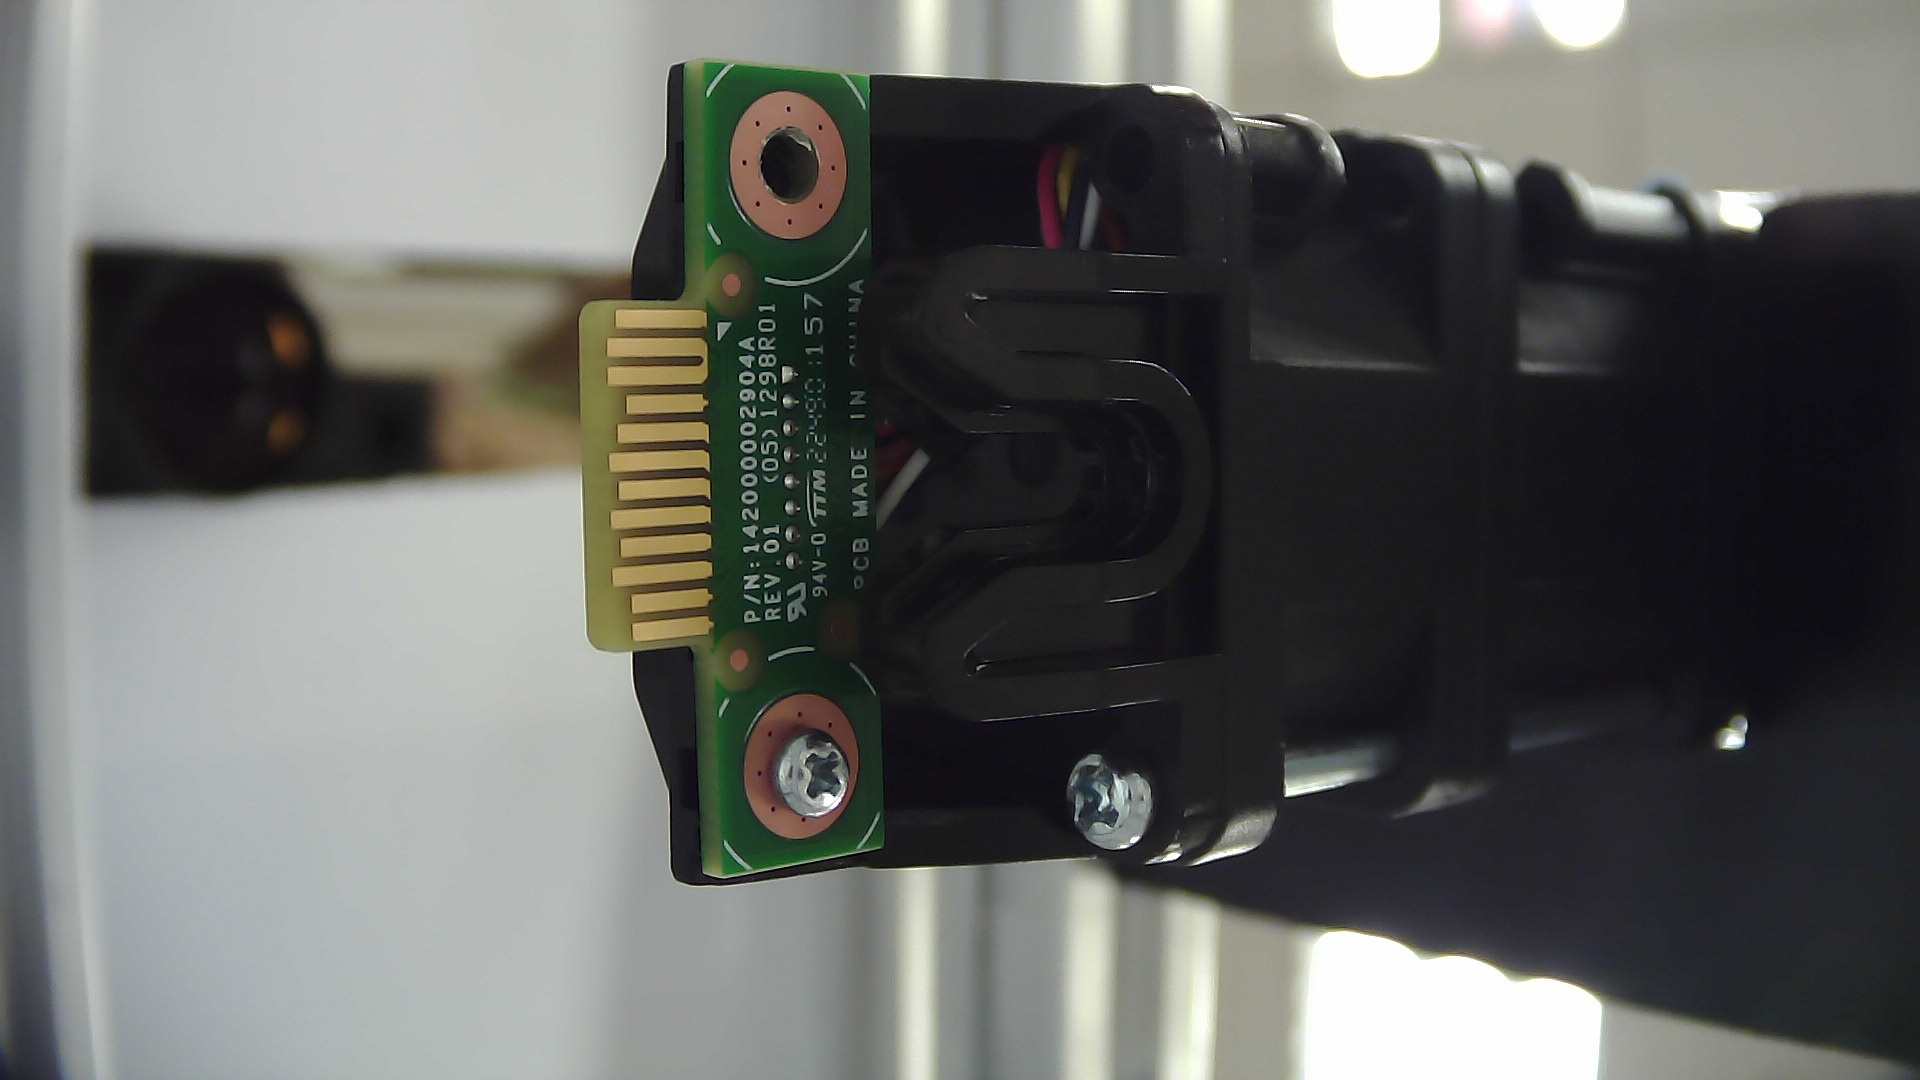7_1: (707, 73, 869, 247)
